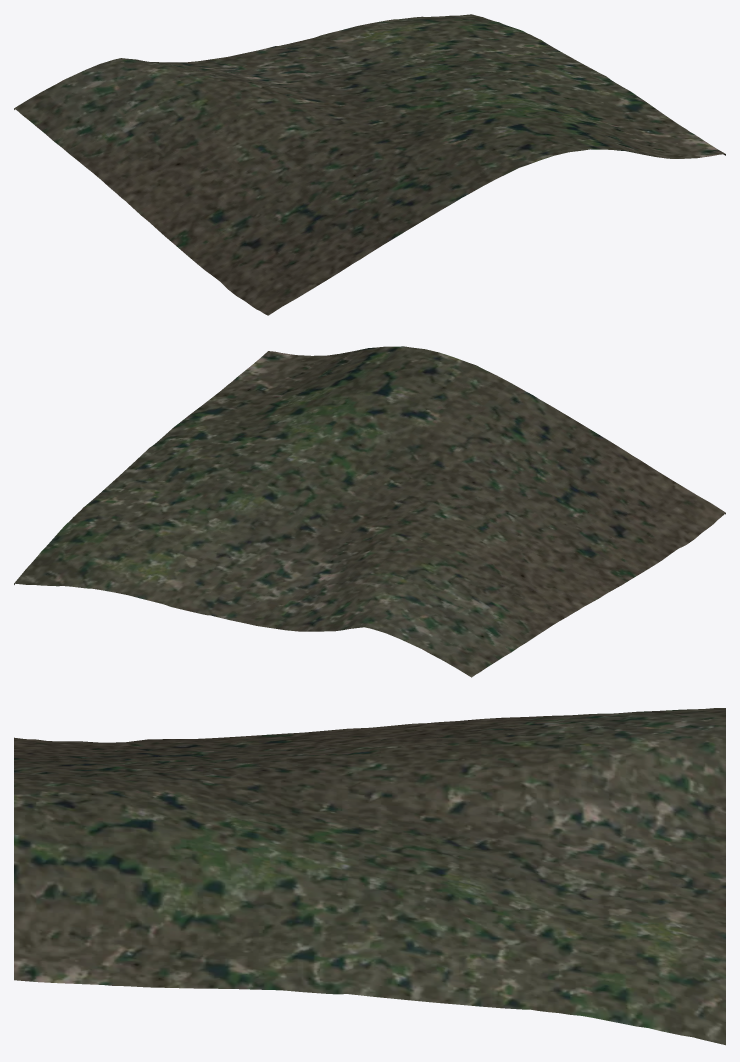
3 renders of one model, top to bottom at view 1: azimuth 30°, elevation 25°; view 2: azimuth 150°, elevation 25°; view 3: azimuth 270°, elevation 25°, orthographic. The views are drawn at different scales.
Size of the model in its own units: 250 by 50 by 241.
Materials: 1 (1 with a texture image).
